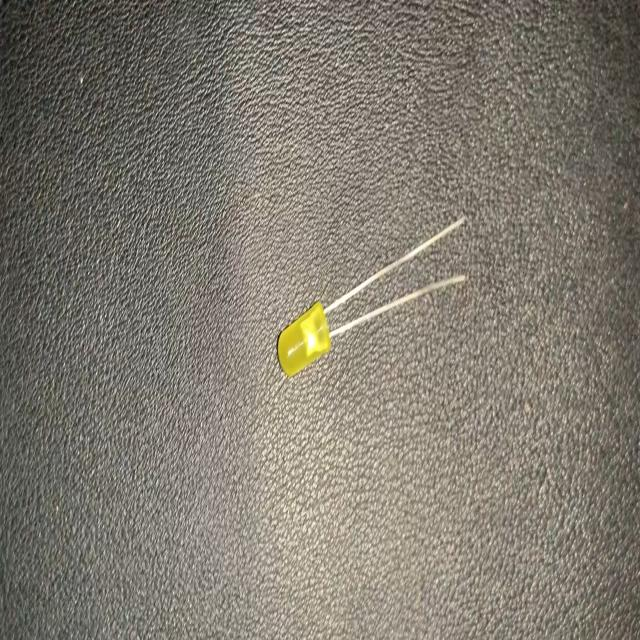LED: (273, 208, 467, 384)
